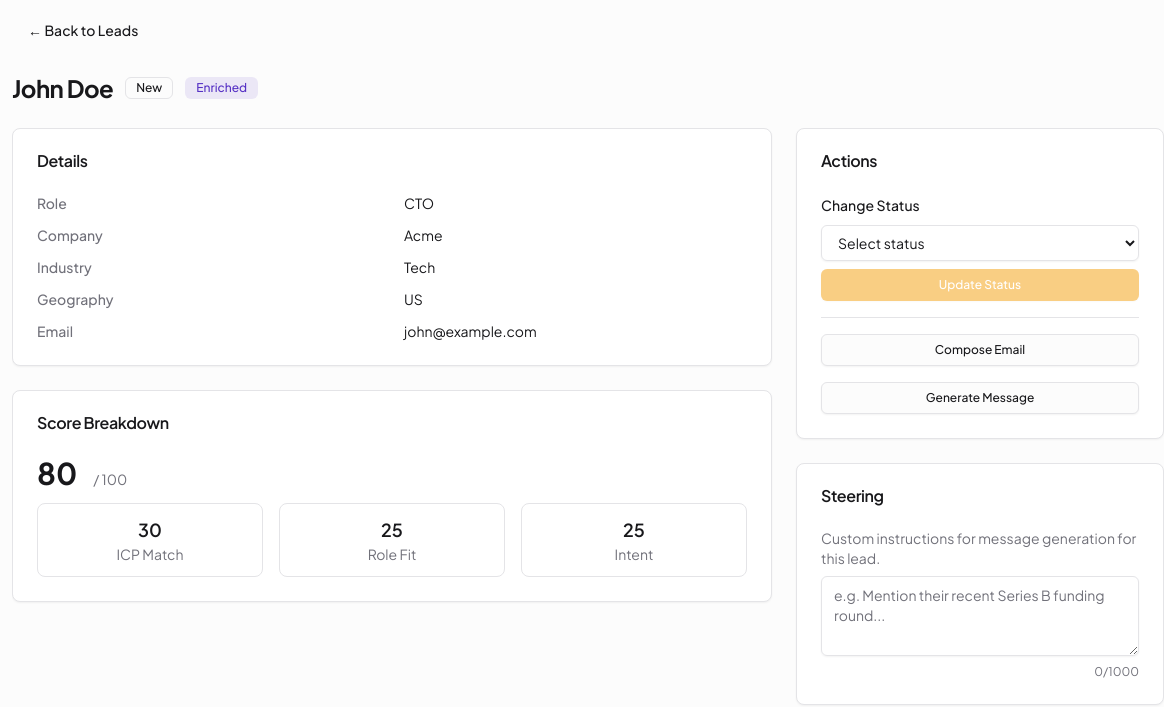
Test: LeadDetailView integration entry points › renders "Send Email" button after message generation
# Click Generate Message
Click the button "Generate Message" at [980, 398], box 821,382 -> 1139,414
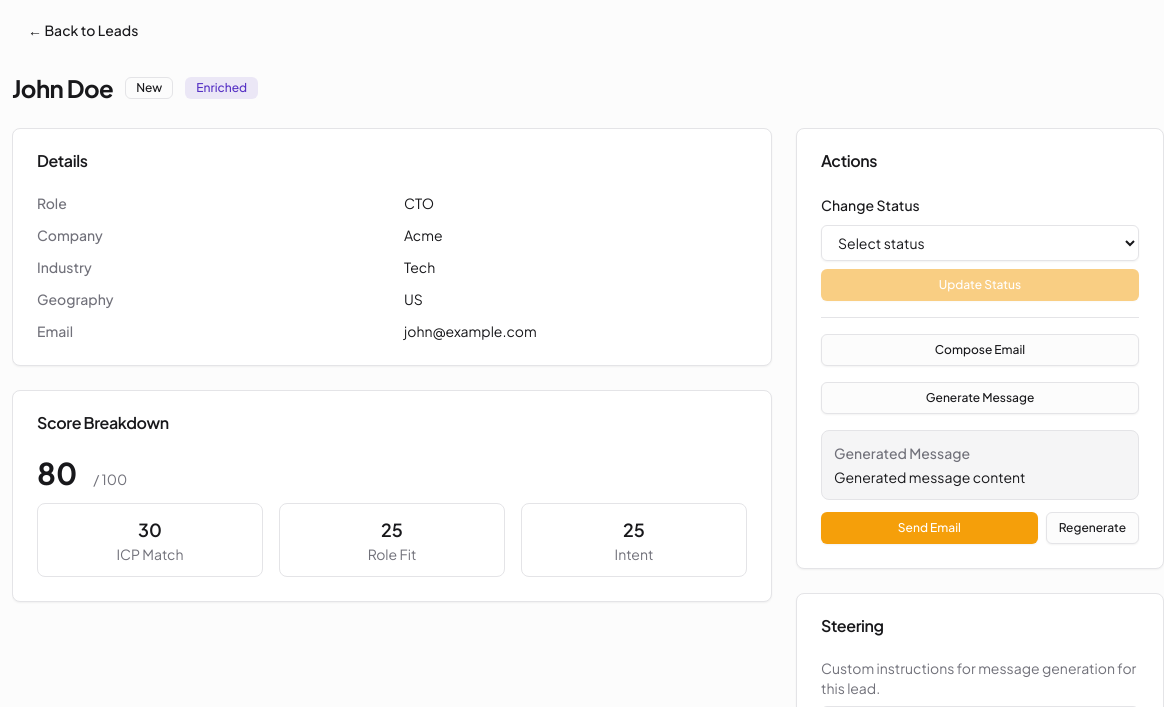
Expected: the text "Generated message content" is shown, 834,468 -> 1026,486
Expected: the button "Send Email" is shown, 821,512 -> 1038,544
